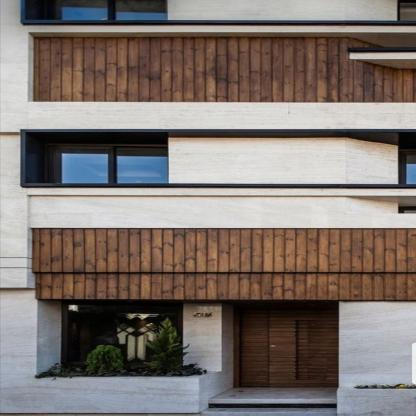Building Outline: (0, 0, 416, 416)
Door: (241, 308, 340, 387)
Door Hole: (222, 299, 339, 399)
Facade: (0, 0, 416, 416)
Floor: (0, 287, 416, 416), (0, 113, 416, 195), (0, 206, 416, 278), (0, 37, 416, 103), (0, 0, 416, 27)
Floor Slab: (0, 103, 416, 113), (0, 196, 416, 206), (0, 28, 416, 38), (0, 278, 416, 288)
Window: (69, 305, 179, 369), (48, 146, 168, 184), (45, 0, 168, 20), (398, 149, 416, 184), (400, 2, 416, 20), (398, 207, 416, 214)
Window Hole: (61, 300, 183, 377), (26, 132, 168, 184), (25, 0, 168, 20), (398, 132, 416, 184), (396, 0, 416, 20)
